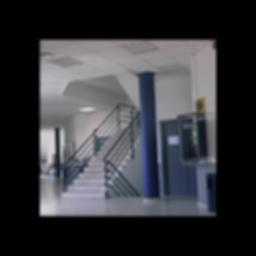Bote de Basura: (201, 172, 215, 212)
Escaleras: (63, 109, 140, 199)
Otro Obstaculo: (176, 112, 207, 166)
Puerta: (161, 123, 193, 198)
